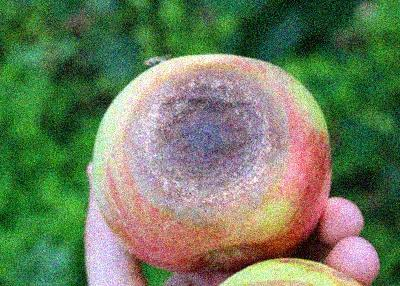rotten apple: (89, 44, 342, 275)
